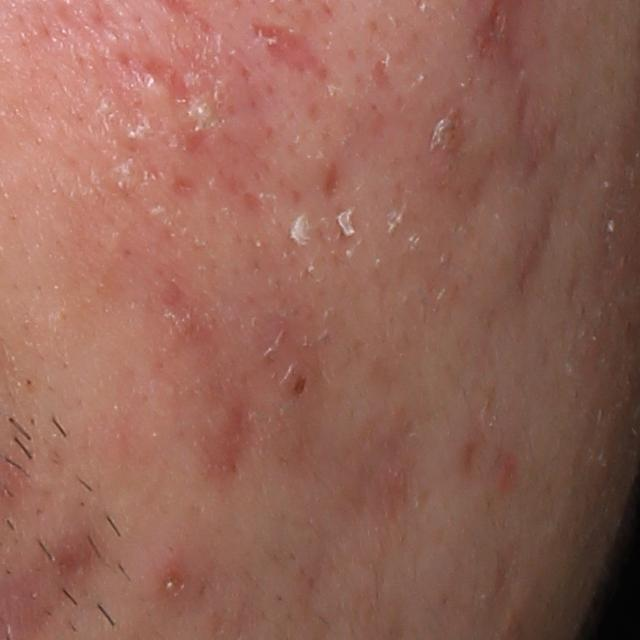atrophic_scar: (247, 21, 335, 78), (323, 152, 343, 202), (370, 51, 388, 92)
papule: (158, 561, 190, 598)
